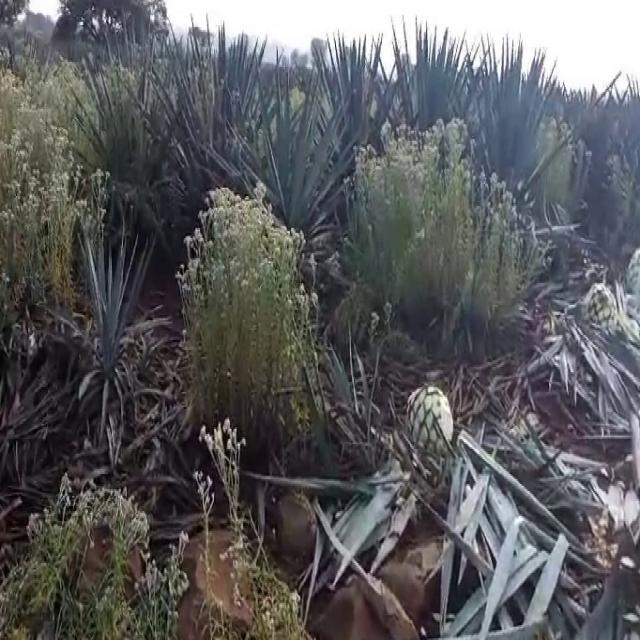agave: (401, 383, 456, 456), (581, 277, 614, 335)
